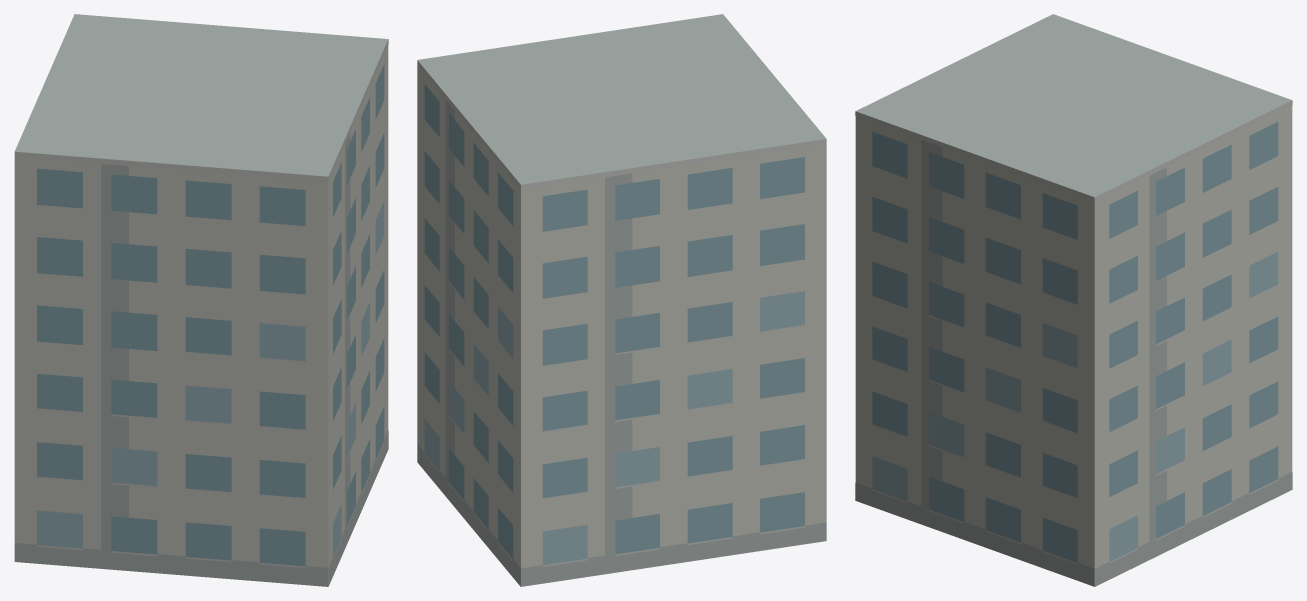
File: survey-upis-32931709.glb
The picture shows the model from 3 angles, left to right: view 1: azimuth 30°, elevation 25°; view 2: azimuth 150°, elevation 25°; view 3: azimuth 270°, elevation 25°; orthographic projection. The views are drawn at different scales.
Visible parts, largest first — view 1: survey-upis-32931709.tmp; view 2: survey-upis-32931709.tmp; view 3: survey-upis-32931709.tmp.
Part boxes in pixels (x1=…): survey-upis-32931709.tmp: x1=14, y1=14, x2=388, y2=586; survey-upis-32931709.tmp: x1=417, y1=14, x2=826, y2=586; survey-upis-32931709.tmp: x1=855, y1=14, x2=1292, y2=586.
Bounding box in the file's own units: 18.48 × 18.3 × 18.61.
